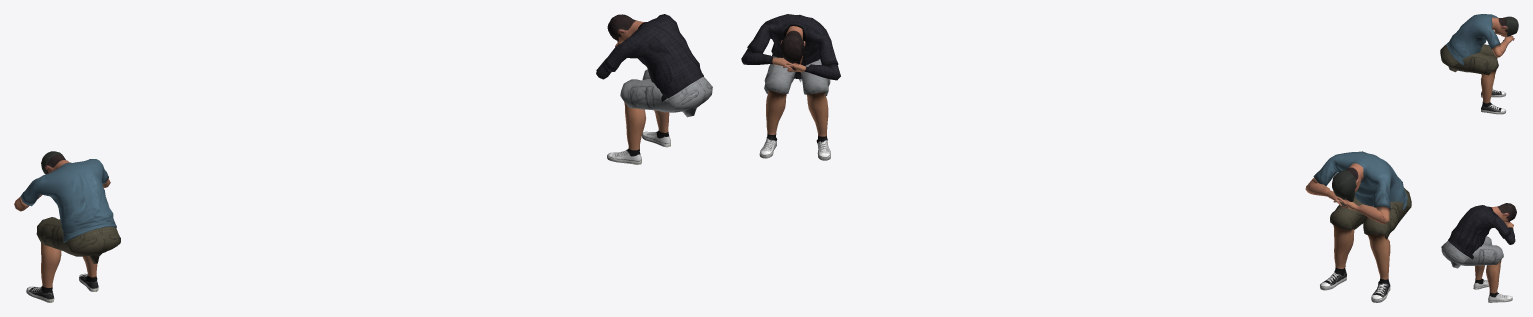
The model's file is library_NPC.FBX.
The picture shows the model from 3 angles, left to right: view 1: azimuth 30°, elevation 25°; view 2: azimuth 150°, elevation 25°; view 3: azimuth 270°, elevation 25°; orthographic projection. The views are drawn at different scales.
Parts seen in each view (by area): view 1: Male_Base057, Male_Base; view 2: Male_Base, Male_Base057; view 3: Male_Base057, Male_Base.
Part boxes in pixels (x1,y1,x2,y2): Male_Base057: (596, 14, 712, 164); Male_Base: (14, 151, 120, 302); Male_Base: (1305, 151, 1411, 302); Male_Base057: (741, 14, 840, 160); Male_Base057: (1441, 203, 1516, 302); Male_Base: (1440, 14, 1518, 114).
Bounding box in the file's own units: 543 × 102 × 82.54.
